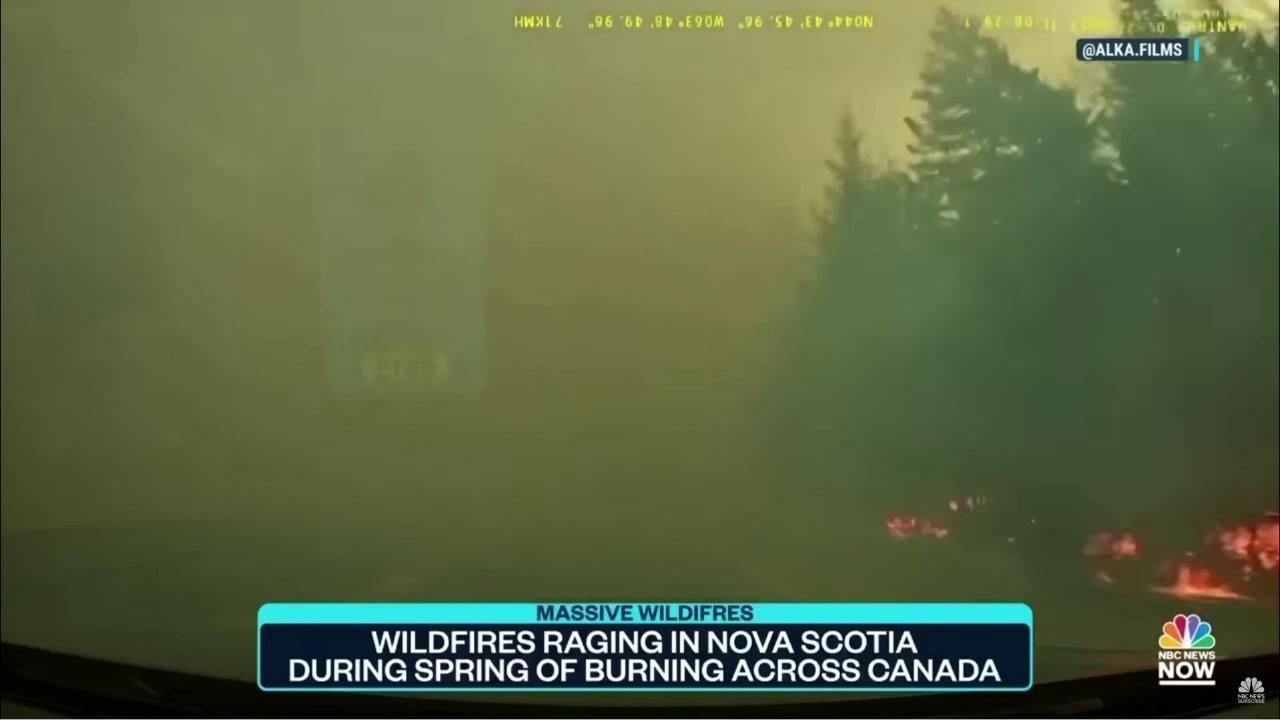fire: (1147, 510, 1280, 599), (1078, 525, 1139, 560), (883, 511, 949, 542), (1093, 572, 1116, 587)
smoke: (2, 0, 1280, 655)
